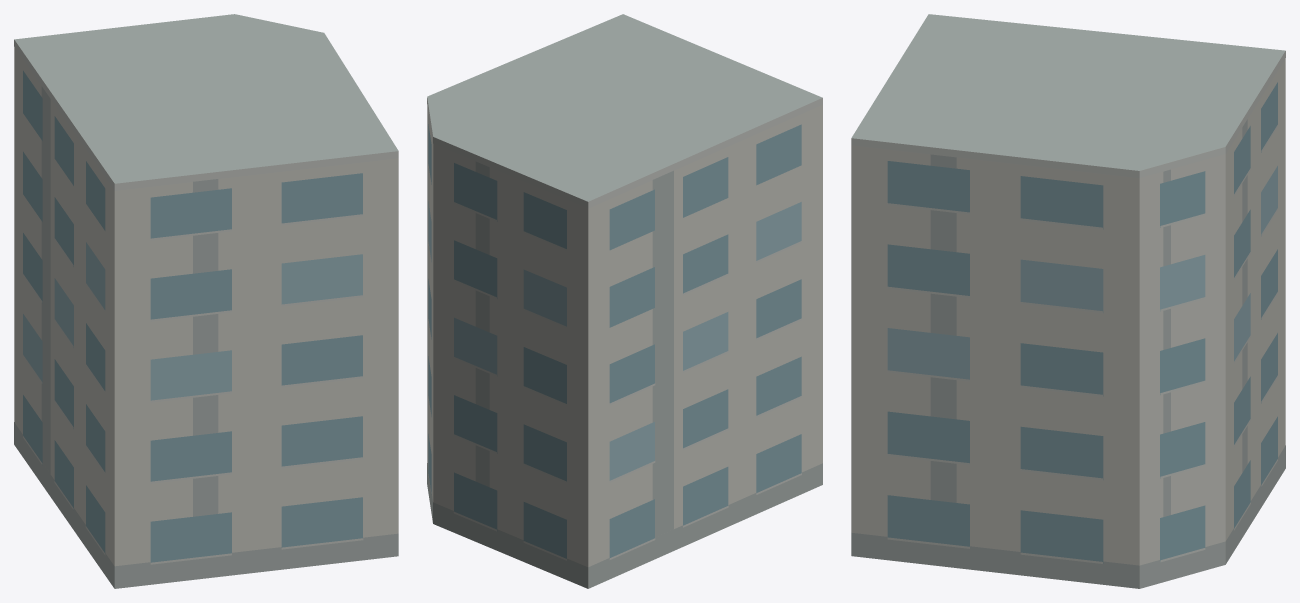
File: survey-upis-32806376.glb
The picture shows the model from 3 angles, left to right: view 1: azimuth 30°, elevation 25°; view 2: azimuth 150°, elevation 25°; view 3: azimuth 270°, elevation 25°; orthographic projection. The views are drawn at different scales.
Visible parts, largest first — view 1: survey-upis-32806376.tmp; view 2: survey-upis-32806376.tmp; view 3: survey-upis-32806376.tmp.
Boxes of the visible parts, <box> form: survey-upis-32806376.tmp: <box>14,14,398,588</box>; survey-upis-32806376.tmp: <box>427,14,822,588</box>; survey-upis-32806376.tmp: <box>851,14,1285,588</box>.
Bounding box in the file's own units: 11.3 × 14.01 × 13.21.
